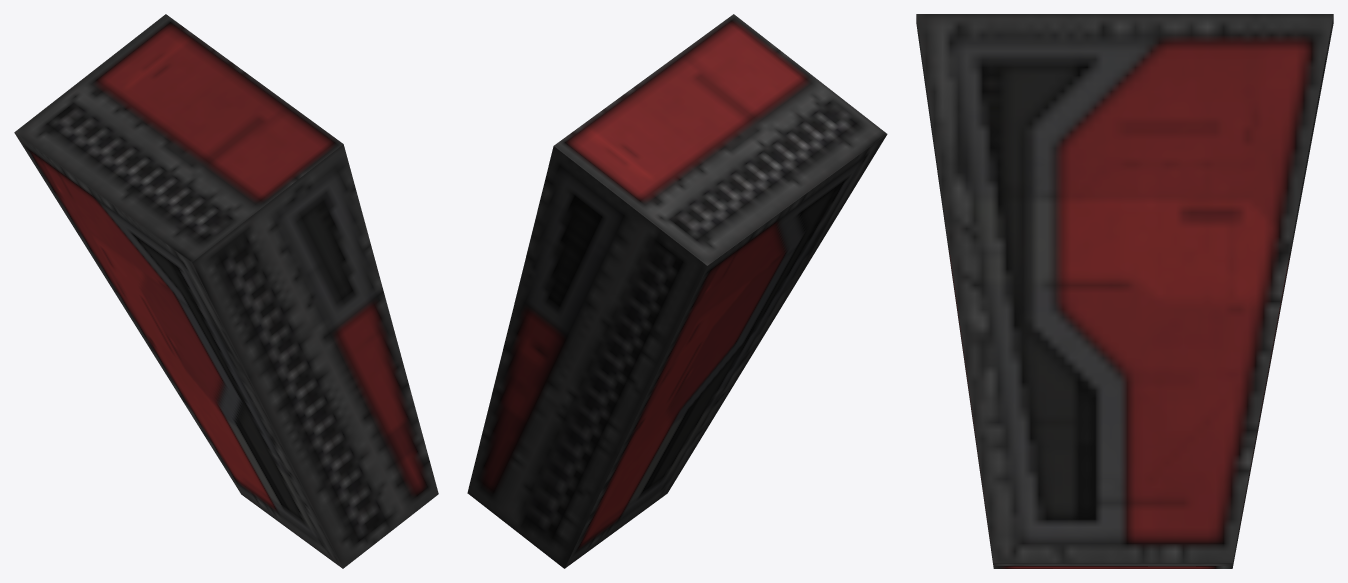
Rendered from BFP_PlasmaCannonBridge_Left.FBX.
3 renders of one model, left to right at view 1: azimuth 30°, elevation 25°; view 2: azimuth 150°, elevation 25°; view 3: azimuth 270°, elevation 25°, orthographic. The views are drawn at different scales.
Visible parts, largest first — view 1: BFP_PlasmaCannonBridge_Left; view 2: BFP_PlasmaCannonBridge_Left; view 3: BFP_PlasmaCannonBridge_Left.
Part boxes in pixels (bbox=[...]): BFP_PlasmaCannonBridge_Left: bbox=[14, 14, 438, 568]; BFP_PlasmaCannonBridge_Left: bbox=[467, 14, 887, 568]; BFP_PlasmaCannonBridge_Left: bbox=[916, 14, 1333, 568].
Bounding box in the file's own units: 57.24 × 89.3 × 62.98.
1 material, 1 textured.
